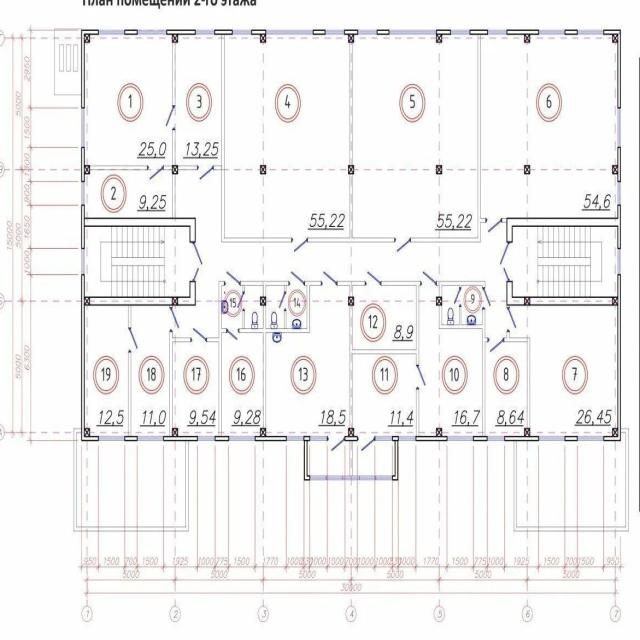Bathrooms: (222, 287, 242, 327), (461, 286, 482, 324), (287, 287, 306, 328), (245, 287, 263, 328), (266, 287, 284, 328), (442, 286, 459, 324)
Corridors: (173, 170, 506, 337), (517, 432, 626, 527), (77, 434, 185, 527), (353, 354, 416, 435), (132, 305, 169, 436), (308, 441, 394, 475), (54, 29, 81, 95), (512, 227, 536, 296), (167, 227, 190, 296)
Doors: (190, 242, 205, 282), (498, 241, 512, 282), (394, 237, 412, 254), (197, 165, 214, 183), (420, 268, 437, 286), (328, 436, 345, 453), (291, 238, 308, 255), (321, 269, 338, 286), (358, 436, 375, 453), (488, 337, 504, 355), (169, 305, 180, 331), (507, 307, 518, 332), (148, 165, 164, 182), (485, 218, 502, 234), (365, 268, 381, 285), (127, 328, 139, 350), (164, 105, 176, 127), (415, 365, 427, 387), (225, 268, 241, 284), (289, 270, 305, 286), (191, 326, 207, 341), (483, 288, 493, 310), (235, 291, 245, 311), (226, 328, 239, 342), (277, 292, 286, 311), (453, 288, 461, 306)
LBwalls: (506, 274, 621, 442), (81, 275, 196, 441), (507, 204, 621, 249), (84, 217, 196, 243), (81, 29, 99, 107), (604, 29, 621, 109), (391, 440, 399, 481), (304, 441, 310, 481), (504, 436, 539, 442), (255, 436, 287, 442), (415, 436, 447, 442), (507, 29, 539, 35), (166, 29, 196, 35), (164, 436, 198, 441), (214, 28, 233, 35), (82, 205, 85, 248), (82, 147, 85, 181), (618, 147, 621, 181), (470, 30, 488, 35), (251, 29, 266, 35), (437, 29, 451, 35), (344, 29, 358, 35), (377, 29, 390, 35), (214, 436, 229, 441), (313, 29, 325, 35), (473, 436, 487, 441), (124, 30, 138, 35), (345, 436, 358, 441), (565, 30, 578, 35), (524, 428, 531, 437), (259, 428, 266, 437), (436, 296, 443, 305), (524, 165, 531, 174), (523, 34, 530, 43), (260, 33, 267, 42), (172, 165, 179, 174), (125, 436, 137, 441), (565, 436, 577, 441), (436, 427, 442, 436), (348, 426, 354, 435), (172, 428, 178, 437), (260, 296, 266, 305), (348, 297, 354, 306), (612, 165, 618, 174), (436, 34, 442, 43), (348, 33, 354, 42), (260, 165, 266, 174), (348, 165, 354, 174), (436, 165, 442, 173), (172, 35, 178, 43), (85, 165, 91, 173), (304, 436, 310, 441), (392, 436, 398, 441)
Offices: (225, 35, 349, 237), (353, 35, 478, 235), (482, 35, 617, 217), (510, 305, 618, 436), (267, 286, 349, 435), (85, 35, 172, 165), (419, 286, 482, 436), (176, 35, 221, 164), (85, 305, 127, 435), (173, 342, 218, 436), (222, 333, 262, 435), (86, 170, 172, 217), (353, 288, 416, 349), (486, 343, 527, 436)
Stairs: (536, 227, 617, 297), (85, 227, 166, 296)
Walls: (212, 34, 293, 242), (410, 34, 487, 243), (238, 281, 322, 427), (514, 428, 629, 532), (74, 428, 188, 531), (436, 281, 490, 437), (307, 173, 396, 243), (352, 280, 422, 367), (207, 281, 227, 436), (503, 330, 530, 428), (169, 330, 191, 436), (240, 280, 290, 297), (336, 280, 367, 296), (349, 305, 352, 429), (349, 43, 352, 165), (90, 165, 149, 170), (128, 350, 131, 436), (415, 386, 419, 436), (172, 43, 175, 107), (172, 174, 175, 219), (172, 127, 175, 165), (178, 166, 198, 170), (128, 305, 131, 329), (163, 165, 172, 170), (501, 218, 507, 224), (507, 304, 510, 310)
Windows: (310, 475, 392, 480), (266, 30, 313, 35), (389, 30, 437, 34), (137, 29, 167, 35), (98, 436, 125, 441), (137, 436, 164, 441), (538, 30, 565, 35), (578, 436, 604, 441), (99, 30, 125, 35), (578, 30, 603, 35), (230, 436, 254, 441), (81, 108, 84, 148), (618, 108, 621, 147), (358, 29, 377, 35), (233, 29, 251, 35), (539, 436, 565, 440), (448, 436, 473, 440), (450, 30, 470, 35), (488, 30, 507, 35), (326, 30, 345, 35), (196, 30, 215, 35), (310, 436, 328, 441), (487, 436, 505, 441), (287, 436, 304, 441), (375, 436, 392, 441), (399, 436, 416, 441), (198, 436, 214, 441), (82, 249, 85, 275), (618, 249, 621, 274), (82, 181, 85, 205), (618, 181, 621, 204)
